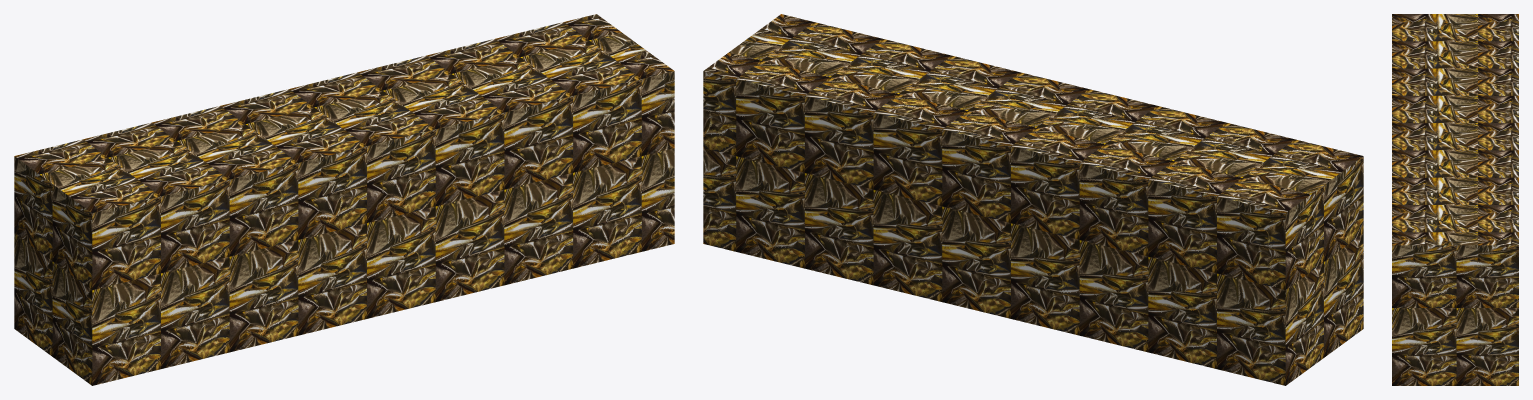
The model's file is vypinacOff.obj.
3 views of the same model, side by side, from view 1: azimuth 30°, elevation 25°; view 2: azimuth 150°, elevation 25°; view 3: azimuth 270°, elevation 25° (orthographic). The views are drawn at different scales.
Parts seen in each view (by area): view 1: Mesh1 VypinacOff Model; view 2: Mesh1 VypinacOff Model; view 3: Mesh1 VypinacOff Model.
Boxes of the visible parts, left/top/right/bottom form: Mesh1 VypinacOff Model: left=14, top=14, right=674, bottom=385; Mesh1 VypinacOff Model: left=703, top=14, right=1363, bottom=385; Mesh1 VypinacOff Model: left=1392, top=14, right=1518, bottom=385.
Bounding box in the file's own units: 1.94 × 0.55 × 0.45.
